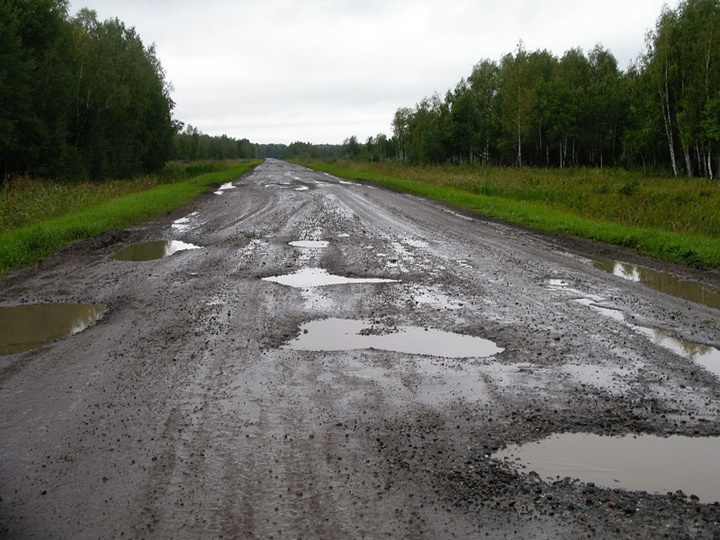pothole: (495, 412, 719, 502), (252, 316, 504, 360), (2, 285, 107, 363), (254, 263, 401, 294), (103, 235, 203, 268), (405, 273, 474, 313), (566, 304, 660, 328), (659, 335, 719, 372), (538, 272, 596, 297), (286, 235, 334, 252), (210, 176, 241, 196), (285, 180, 315, 192)
